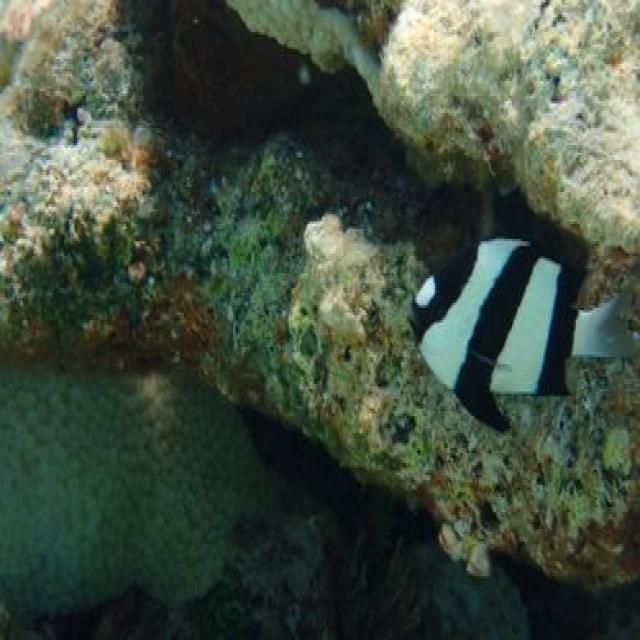ThreeStripedDamselfish: (407, 236, 640, 436)
